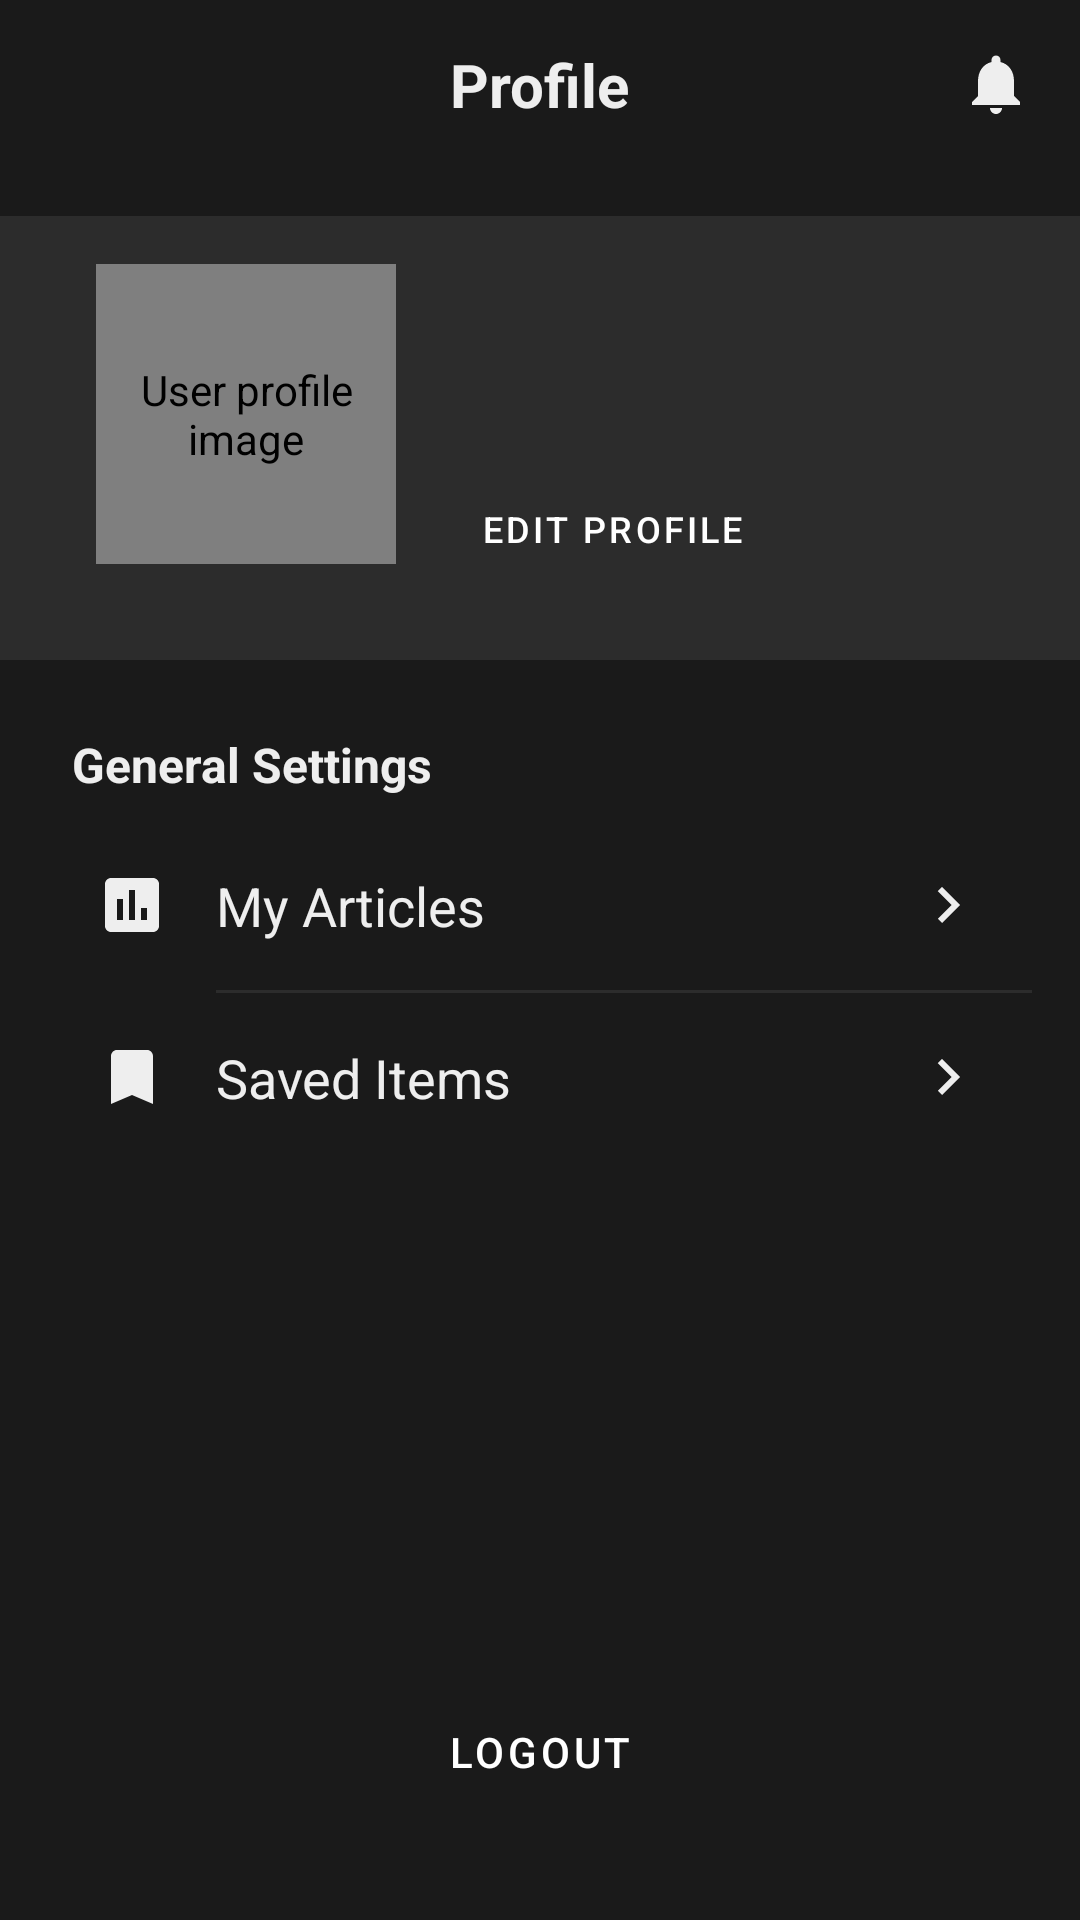

Screen size 1080*1920. Icon name, then its center in pixels as point (x, y):
Notifications: point (996, 84)
